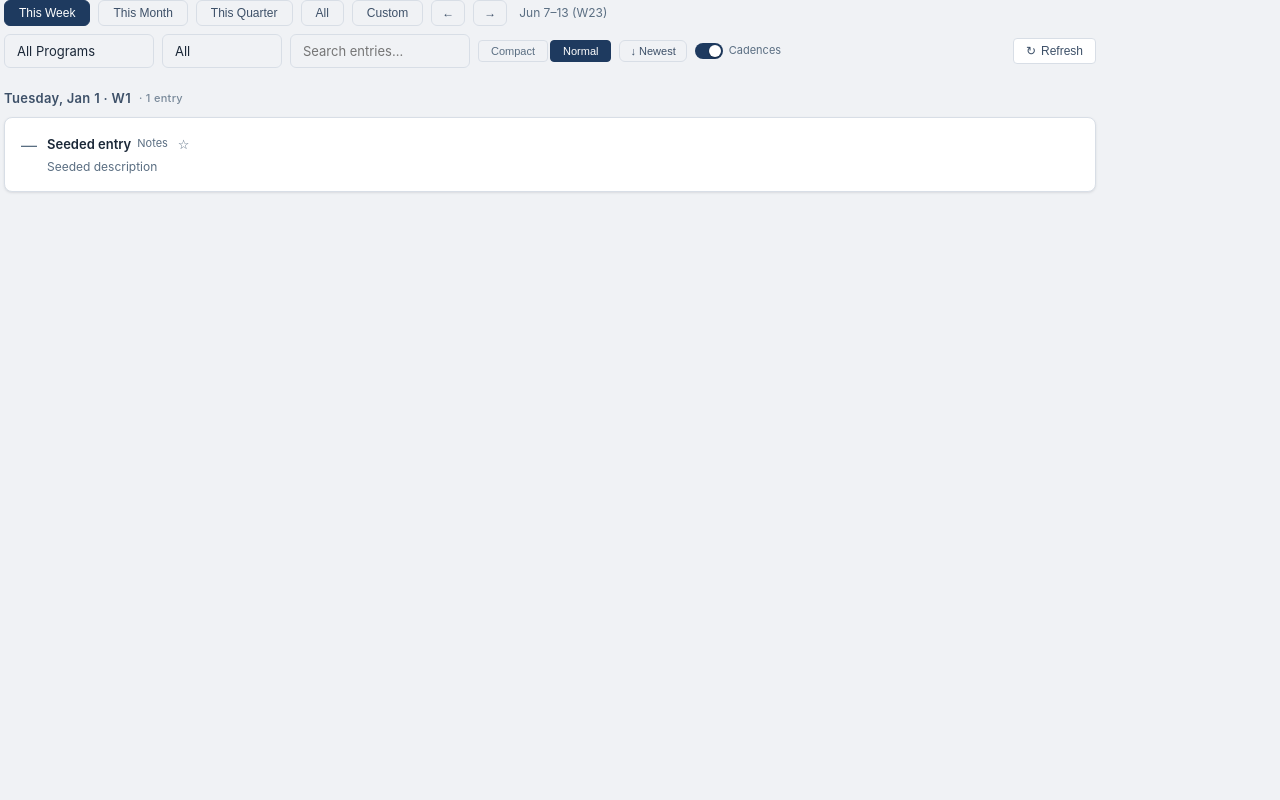
TimelineView — entry edit modal dirty-state close guard (Task 9.14) › Discard from the confirm dialog closes the modal
Click the text "Seeded entry".
click(89, 144)  # box [47,134,131,155]
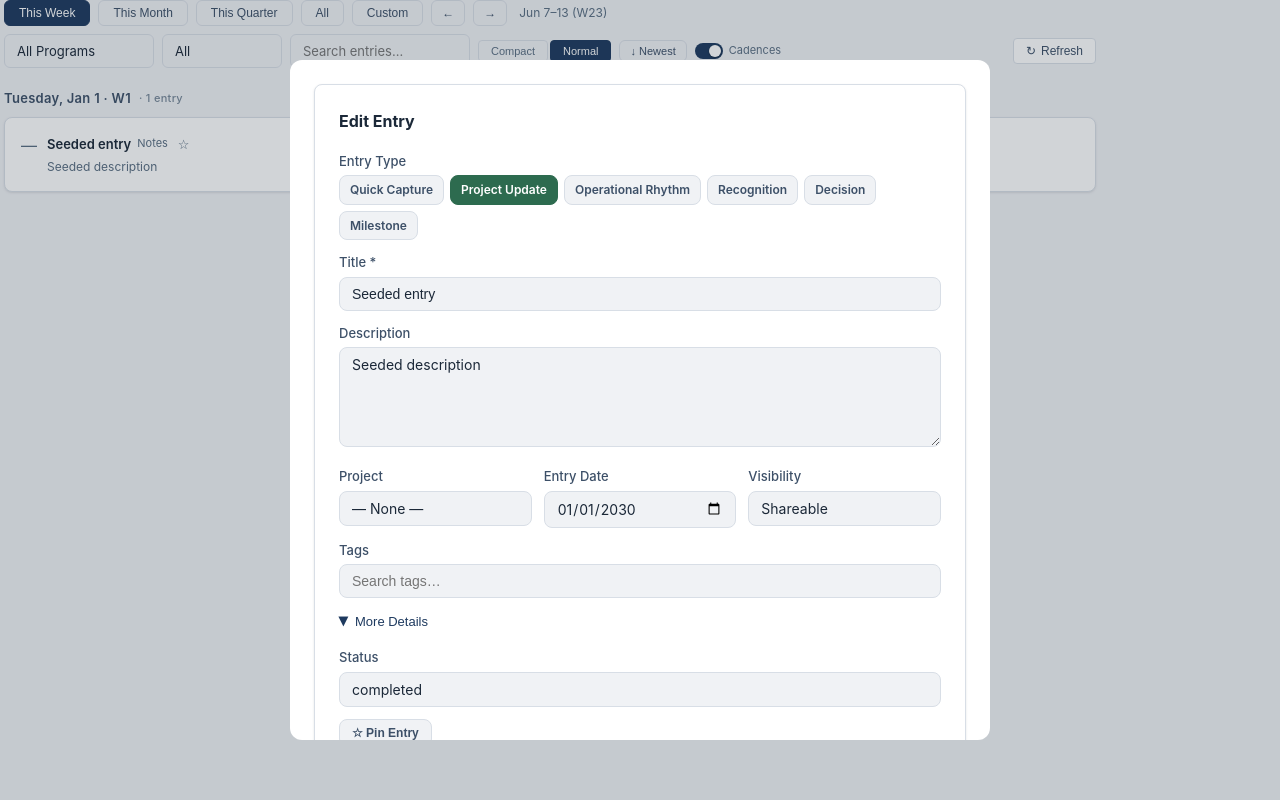
Replace the text in the field showing "Seeded entry" with "Edited title" at {"x": 640, "y": 294}, box [339,277,941,311]
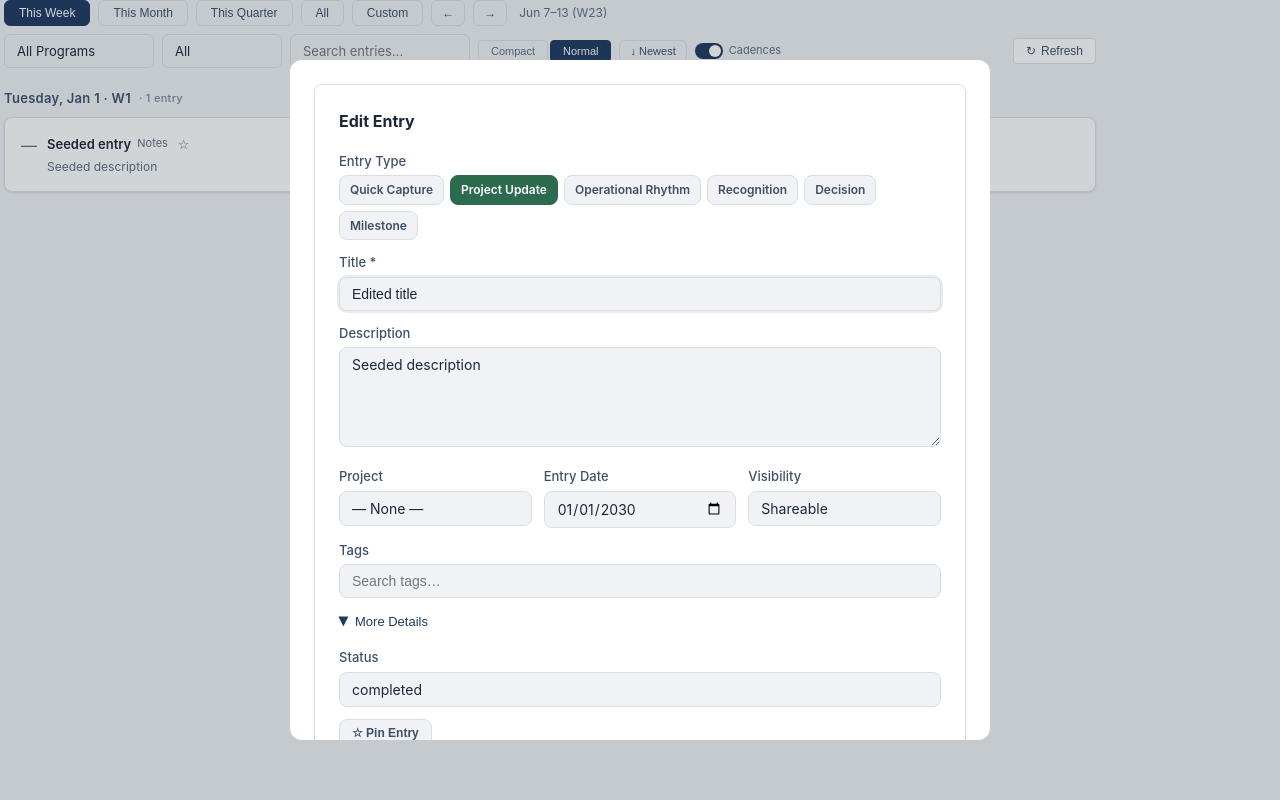
Press Escape in the dialog "Edit Entry"
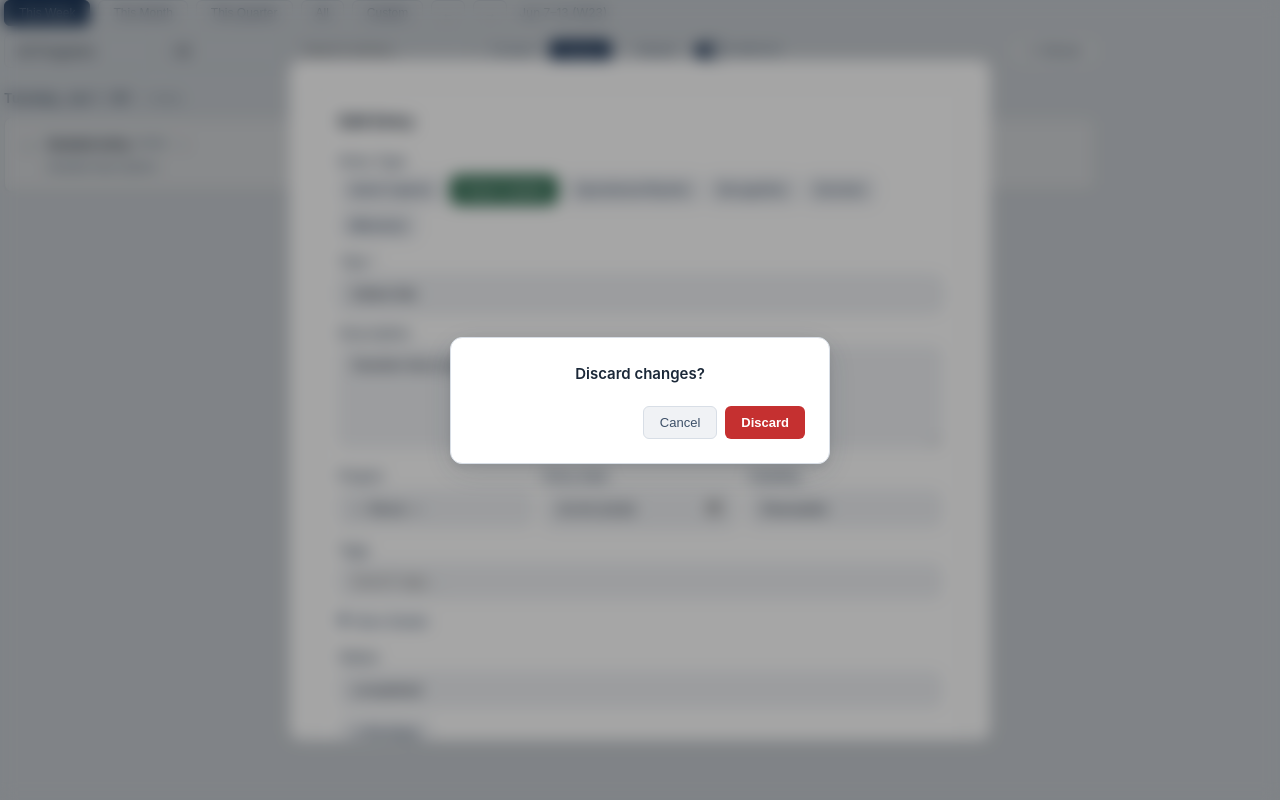
Click the button with aria-label "discard changes".
click(765, 422)  # box [725,406,805,438]
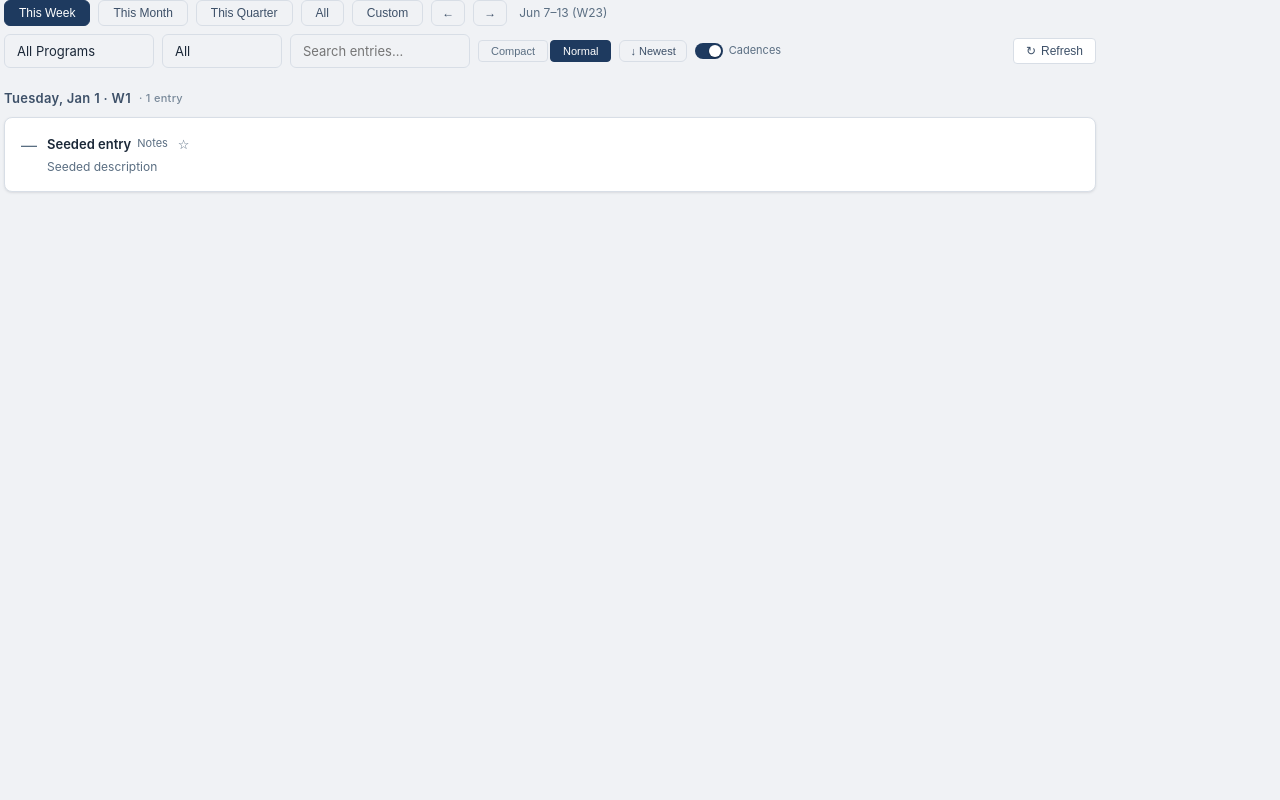
Expected: the heading "Edit Entry" is gone
